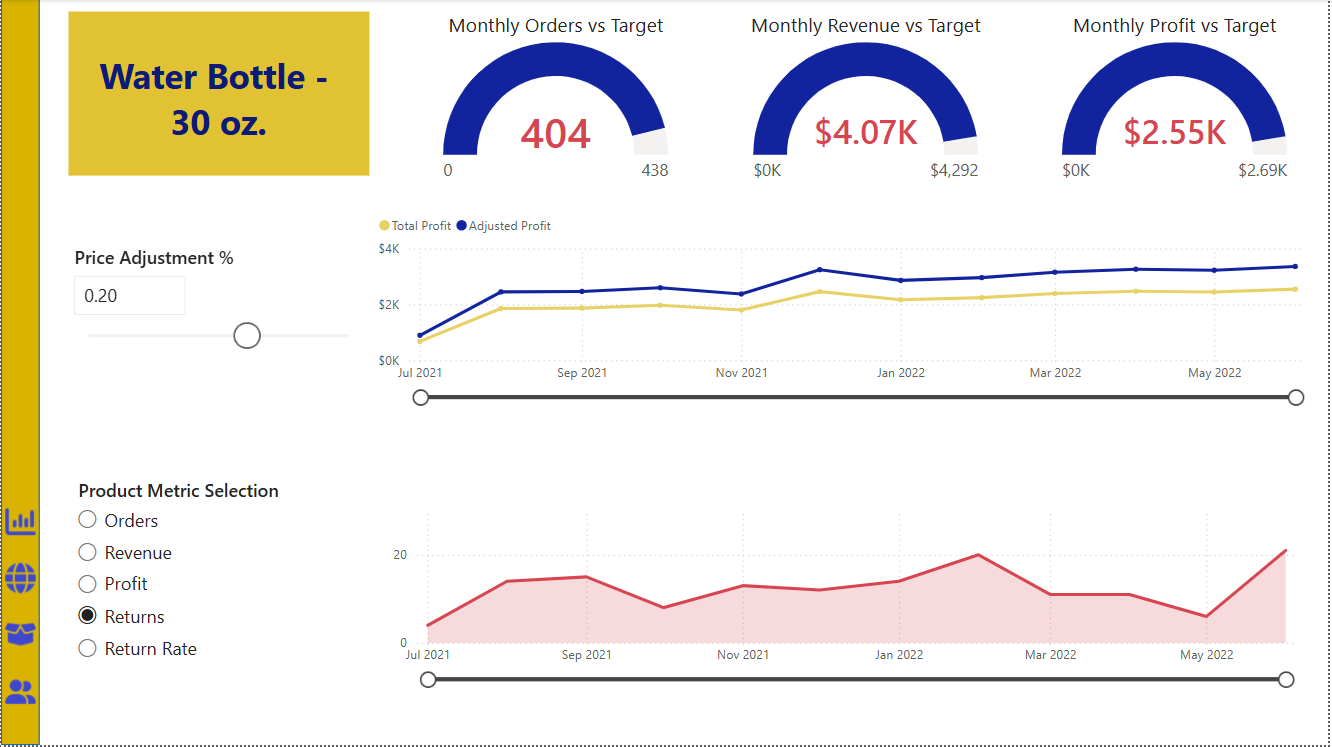

This screenshot's page, from the dashboard's own definition file:
{"tool":"powerbi","page":{"name":"Product Detail","canvas":[1280,720],"ordinal":2},"visuals":[{"type":"shape","title":"Left Nav Background","box":[0,0,37.4,720.2],"z":0},{"type":"actionButton","box":[0,475.3,37.7,58.4],"z":0,"group":"g1"},{"type":"gauge","title":"Monthly Orders vs Target","fields":{"Y":["Measure Table.Total Orders"],"MaxValue":["Measure Table.Order Target"]},"box":[417.5,12.5,236.2,175],"z":1000},{"type":"actionButton","box":[0,529.8,37.7,58.4],"z":1000,"group":"g1"},{"type":"gauge","title":"Monthly Revenue vs Target","fields":{"Y":["Measure Table.Total Revenue"],"MaxValue":["Measure Table.Revenue Target"]},"box":[716.2,12.5,236.2,175],"z":2000},{"type":"actionButton","box":[0,584.4,37.7,58.4],"z":2000,"group":"g1"},{"type":"gauge","title":"Monthly Profit vs Target","fields":{"Y":["Measure Table.Total Profit"],"MaxValue":["Measure Table.Profit Target"]},"box":[1015,12.5,236.2,175],"z":3000},{"type":"actionButton","box":[0,638.9,37.7,58.4],"z":3000,"group":"g1"},{"type":"lineChart","title":" Profit Trending","fields":{"Category":["Calendar Lookup.Date Hierarchy.Date","Calendar Lookup.Date Hierarchy.Year","Calendar Lookup.Date Hierarchy.Start of Month","Calendar Lookup.Date Hierarchy.Start of Week"],"Y":["Measure Table.Total Profit","Measure Table.Adjusted Profit"]},"box":[359.7,198.6,920.8,195.8],"z":4000},{"type":"areaChart","title":"Return Trending","fields":{"Y":["Measure Table.Return Rate"],"Category":["Calendar Lookup.Date Hierarchy.Date","Calendar Lookup.Date Hierarchy.Year","Calendar Lookup.Date Hierarchy.Start of Month","Calendar Lookup.Date Hierarchy.Start of Week"]},"box":[373.6,480.6,897.2,187.5],"z":5000},{"type":"card","fields":{"Values":["Min(Product Lookup.ProductName)"]},"box":[65,12.5,290,158.8],"z":6000},{"type":"group","id":"g1","title":"Group 1","box":[0,475.3,37.7,222.1],"z":7000},{"type":"slicer","fields":{"Values":["Price Adjustment %.Price Adjustment %"]},"box":[58.3,233.3,301.4,161.1],"z":8000},{"type":"slicer","fields":{"Values":["Product Metric selection.Product Metric selection"]},"box":[61.1,456.9,288.9,256.9],"z":9000}]}

Visuals, with their boxes on the page's 1280x720 design canvas (x1, y1, x2, y2). These are canvas units, not pixel positions in the 1332x747 screenshot, which may show the page scaled, cropped or inside an application window:
"Left Nav Background" shape: BBox(0, 0, 37, 720)
actionButton: BBox(0, 475, 38, 534)
"Monthly Orders vs Target" gauge: BBox(418, 12, 654, 188)
actionButton: BBox(0, 530, 38, 588)
"Monthly Revenue vs Target" gauge: BBox(716, 12, 952, 188)
actionButton: BBox(0, 584, 38, 643)
"Monthly Profit vs Target" gauge: BBox(1015, 12, 1251, 188)
actionButton: BBox(0, 639, 38, 697)
" Profit Trending" lineChart: BBox(360, 199, 1280, 394)
"Return Trending" areaChart: BBox(374, 481, 1271, 668)
card - Min(Product Lookup.ProductName): BBox(65, 12, 355, 171)
"Group 1" group: BBox(0, 475, 38, 697)
slicer - Price Adjustment %.Price Adjustment %: BBox(58, 233, 360, 394)
slicer - Product Metric selection.Product Metric selection: BBox(61, 457, 350, 714)
